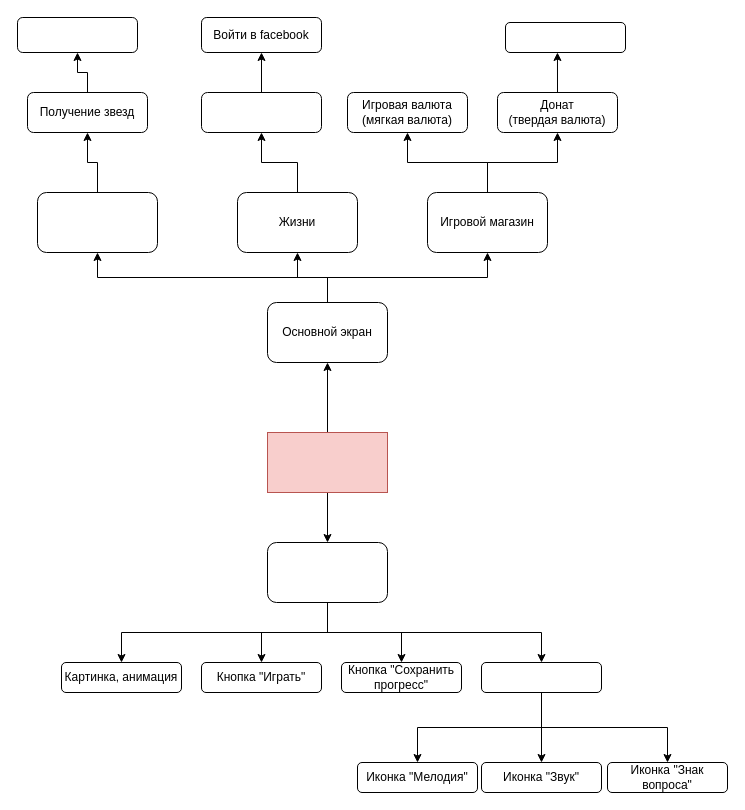
The diagram is 745 pixels wide and 810 high, and some of its shapes have lost their labels. Each missing label, with the box of its shape:
GardenScapes: (266, 432, 388, 492)
Бесплатные жизни: (200, 92, 322, 132)
Звезды: (36, 192, 158, 252)
Кнопка "Настройки": (480, 662, 602, 692)
Поменять твердую валюту на мягкую: (504, 22, 626, 52)
Пройти игровой уровень: (16, 16, 138, 52)
стартовый экран: (266, 542, 388, 602)
